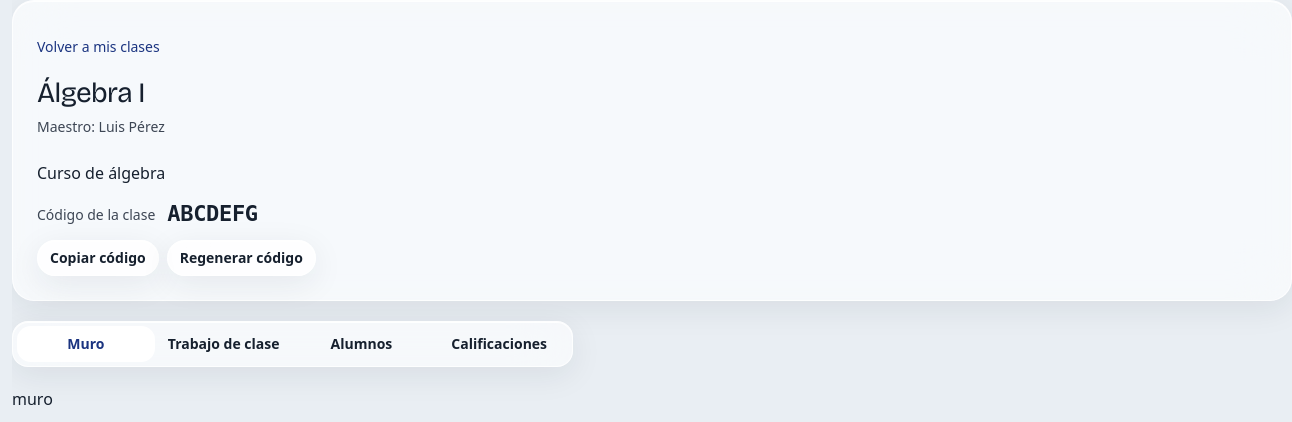
Test case: ataque CLASES-a r1: regenerar el código cuando falla › un POST /codigo que falla da un aviso de error
Expected: the text "ABCDEFG" is shown, [167,202,258,228]
Click the button "Regenerar código": (241, 258) [167,240,316,276]
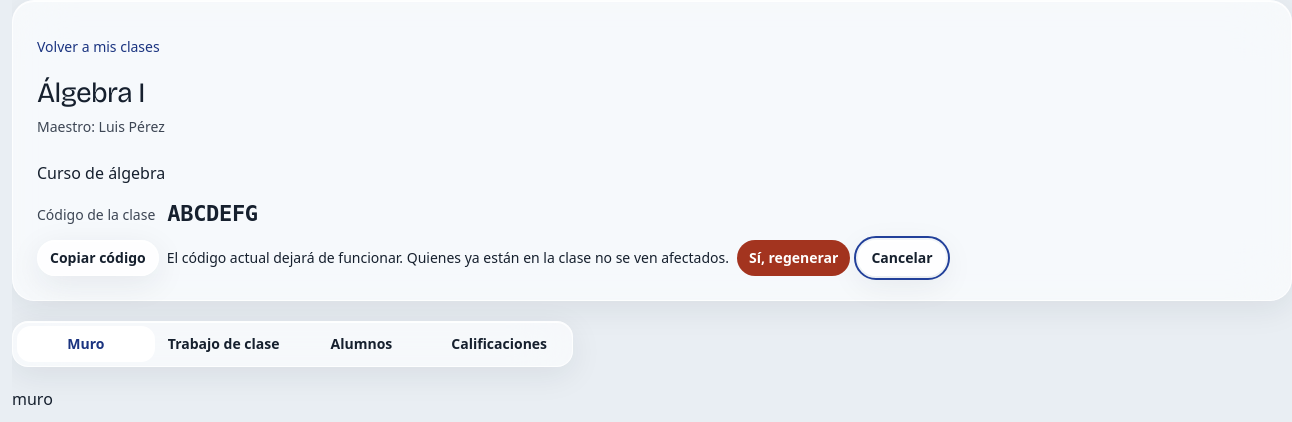
Click the button "Sí, regenerar": (794, 258) [737,240,850,276]
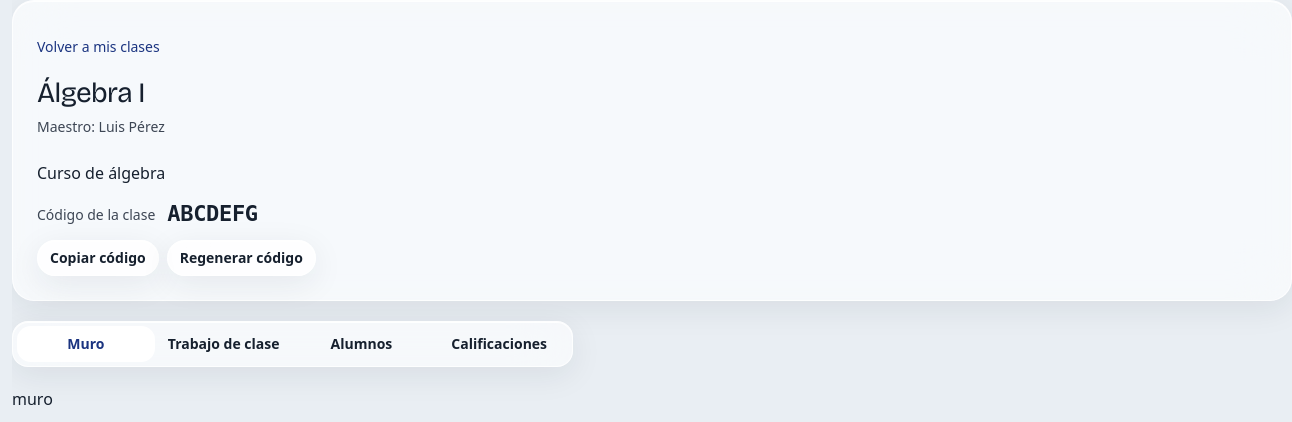
Expected: the text "ABCDEFG" is shown, [167,202,258,228]
Result: the button "Regenerar código" is shown at [167,240,316,276]
